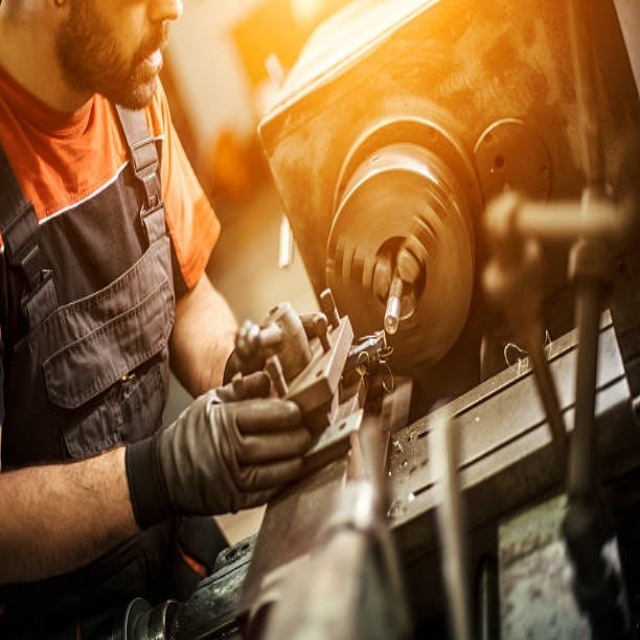Guantes: (127, 379, 313, 526)
Sin_mascara: (114, 19, 177, 107)
